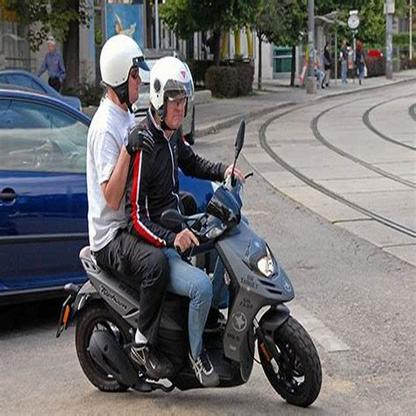target: (54, 33, 323, 407)
